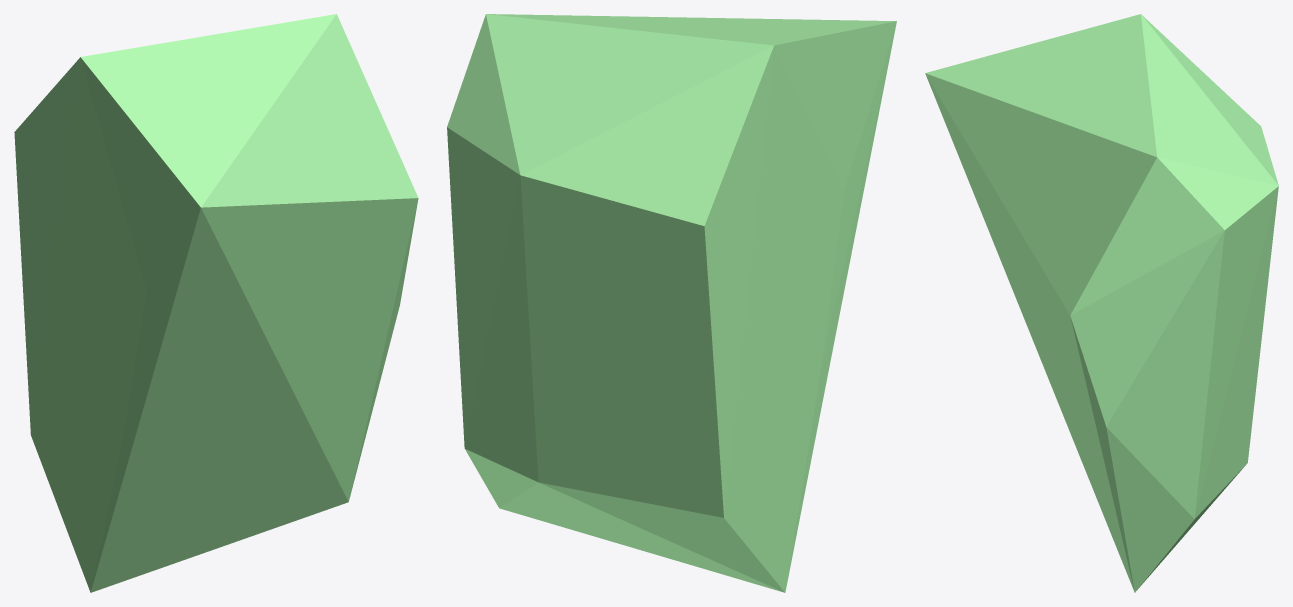
Rendered from linkhou_LR4_R560_link7_respondable_coll_30.dae.
3 views of the same model, side by side, from view 1: azimuth 30°, elevation 25°; view 2: azimuth 150°, elevation 25°; view 3: azimuth 270°, elevation 25° (orthographic). The views are drawn at different scales.
Parts seen in each view (by area): view 1: Node_00000209DB3ACC00; view 2: Node_00000209DB3ACC00; view 3: Node_00000209DB3ACC00.
Boxes of the visible parts, x1,y1,x2,y2 form: Node_00000209DB3ACC00: (14, 14, 418, 592); Node_00000209DB3ACC00: (447, 14, 896, 592); Node_00000209DB3ACC00: (925, 14, 1278, 592).
Bounding box in the file's own units: 0.00909 × 0.0152 × 0.0102.
